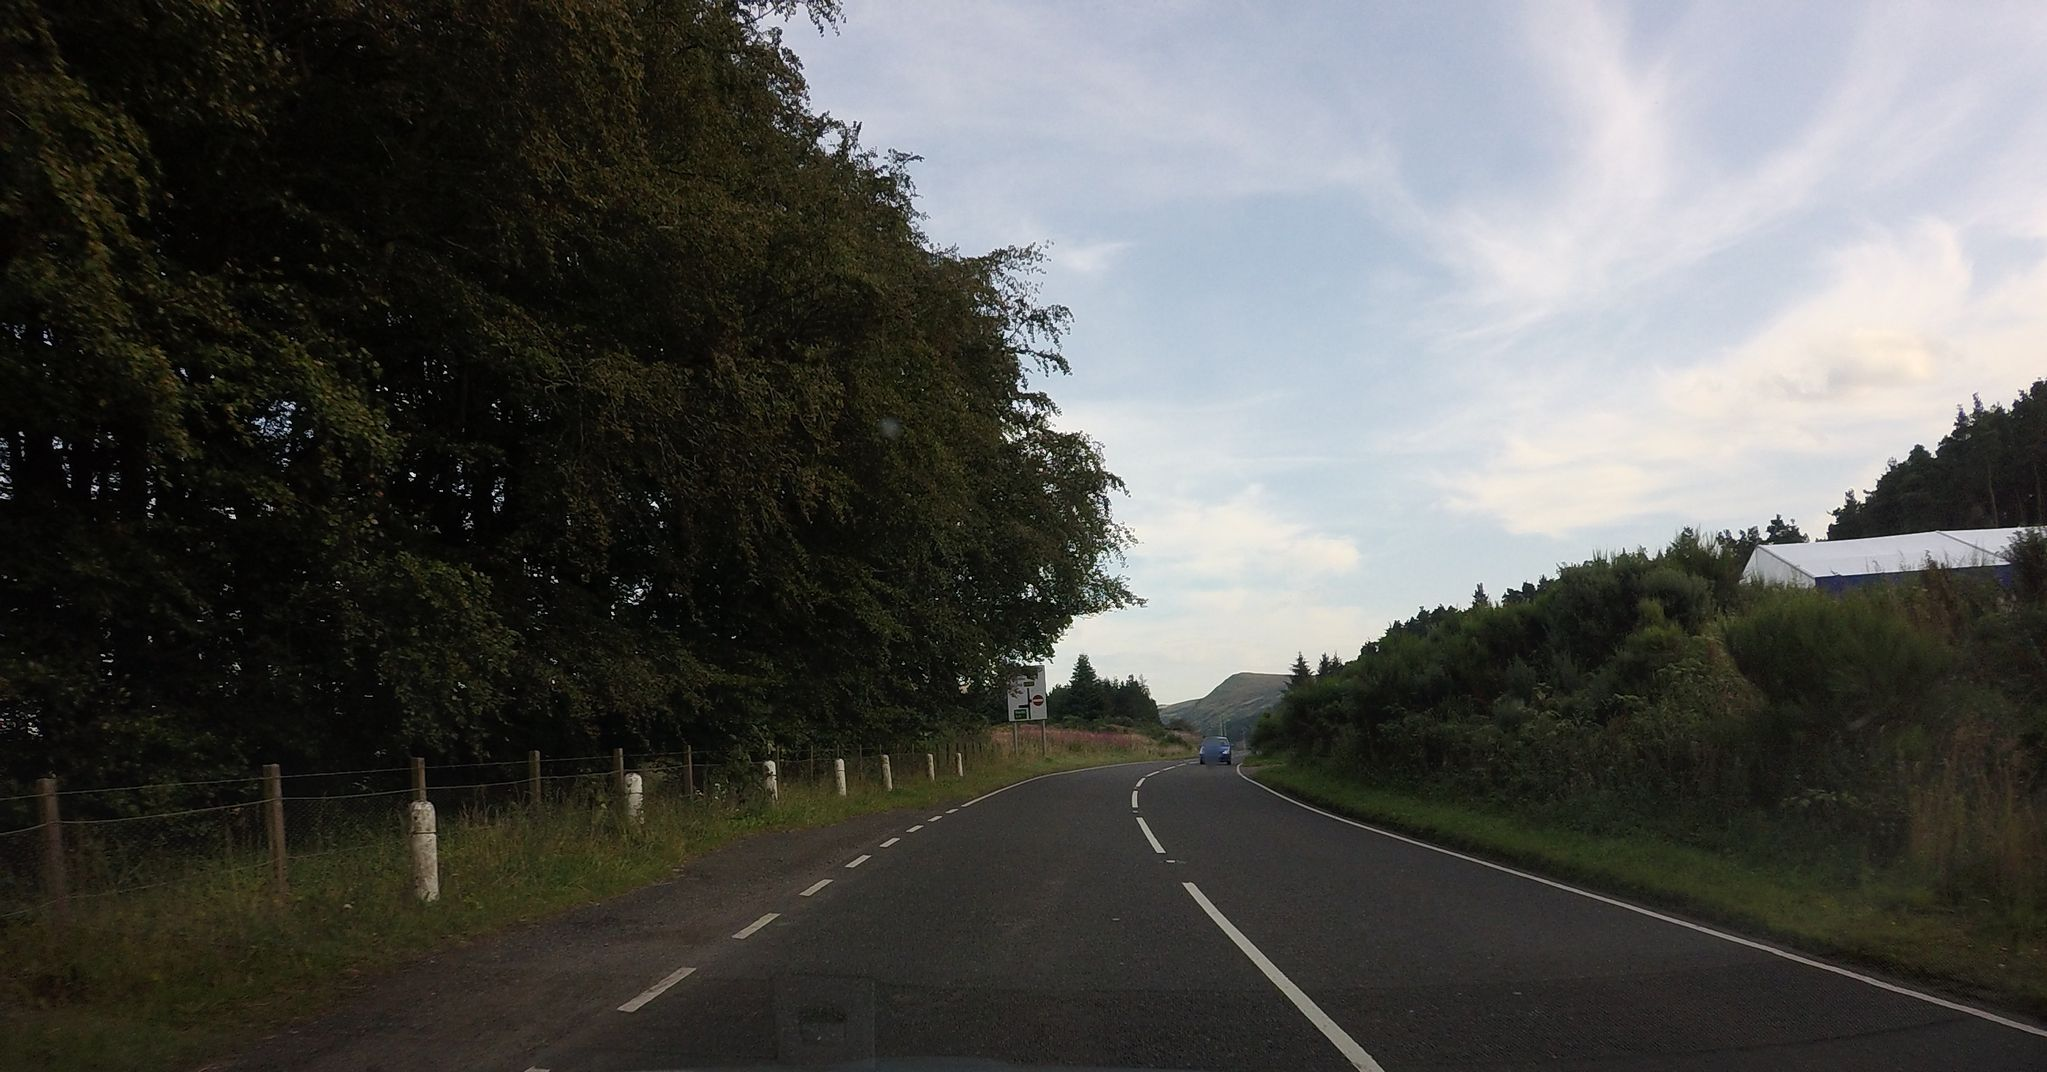car: (1199, 735, 1231, 763)
